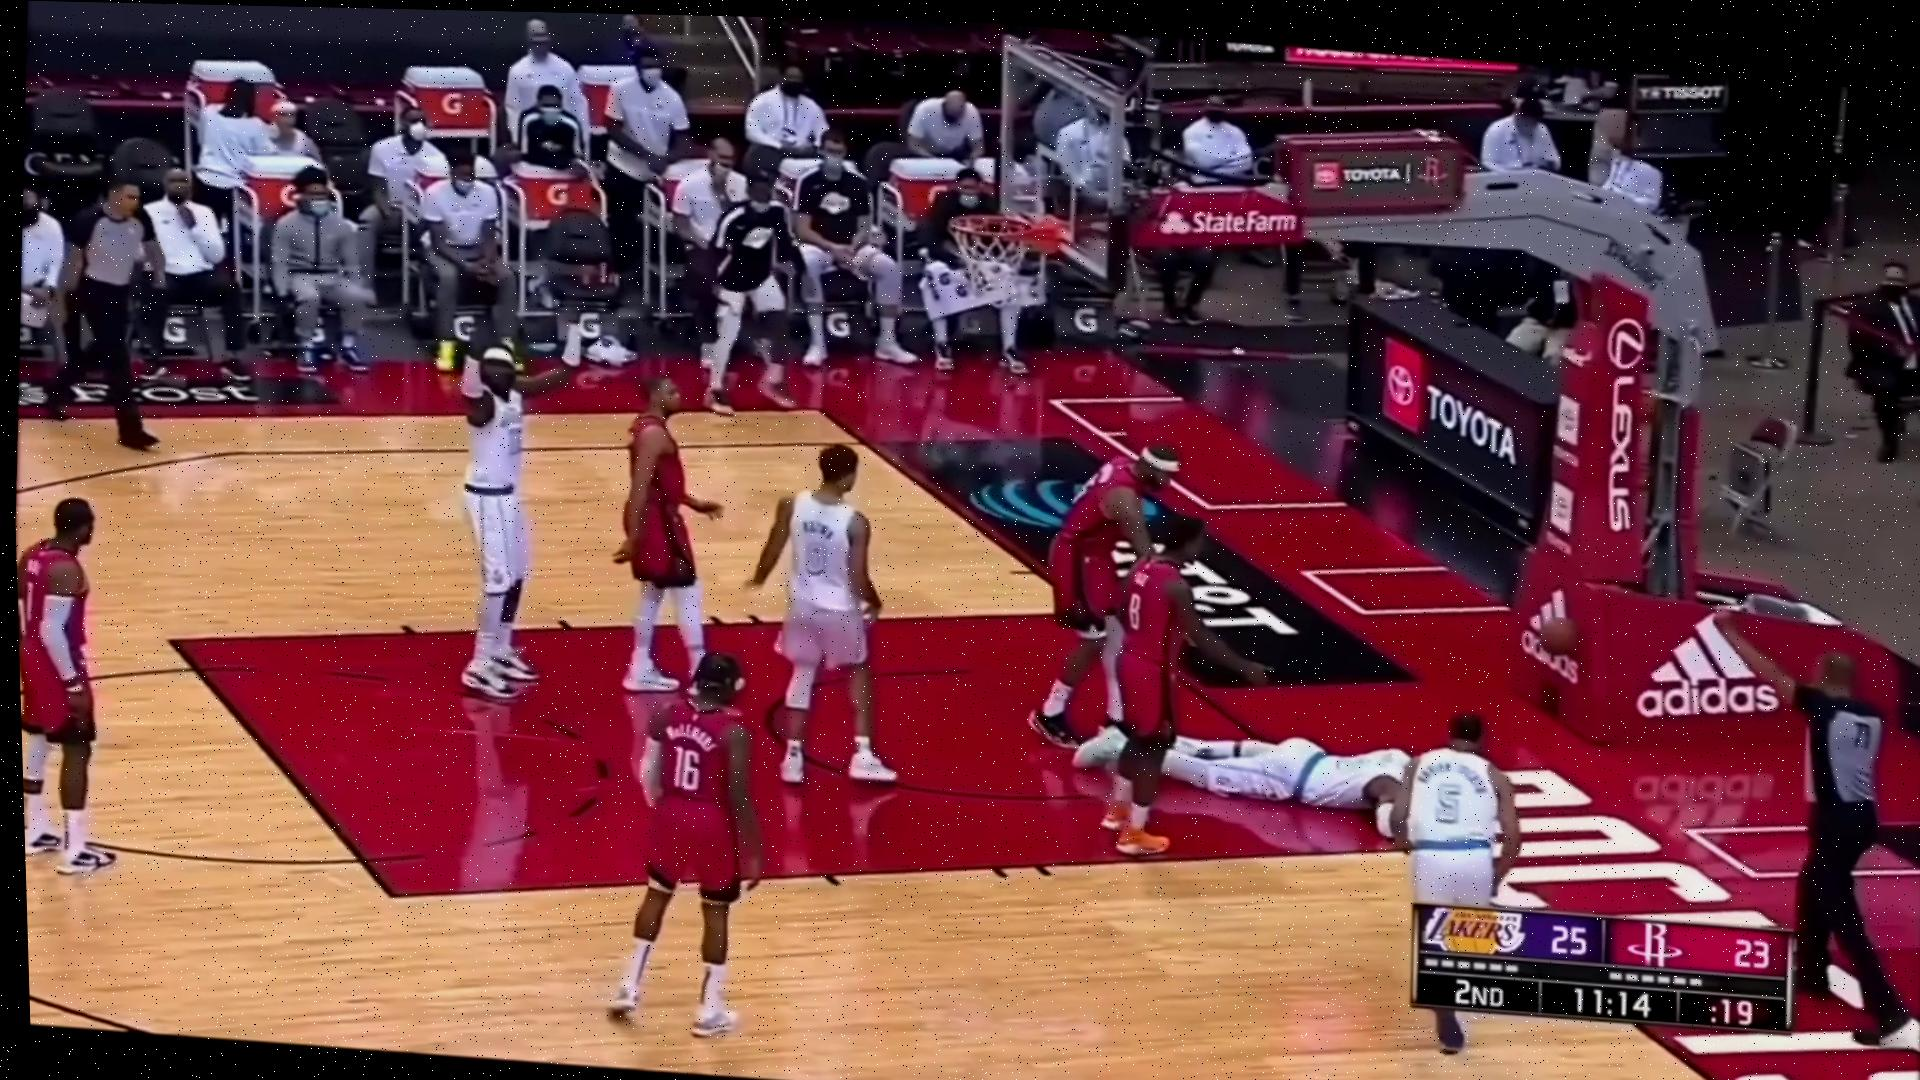foul: (1055, 574, 1444, 849)
